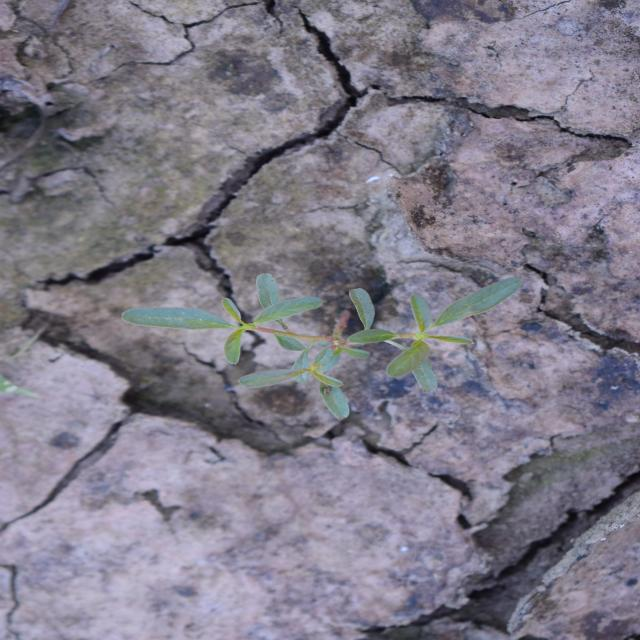Waterhemp: (120, 274, 525, 421)
